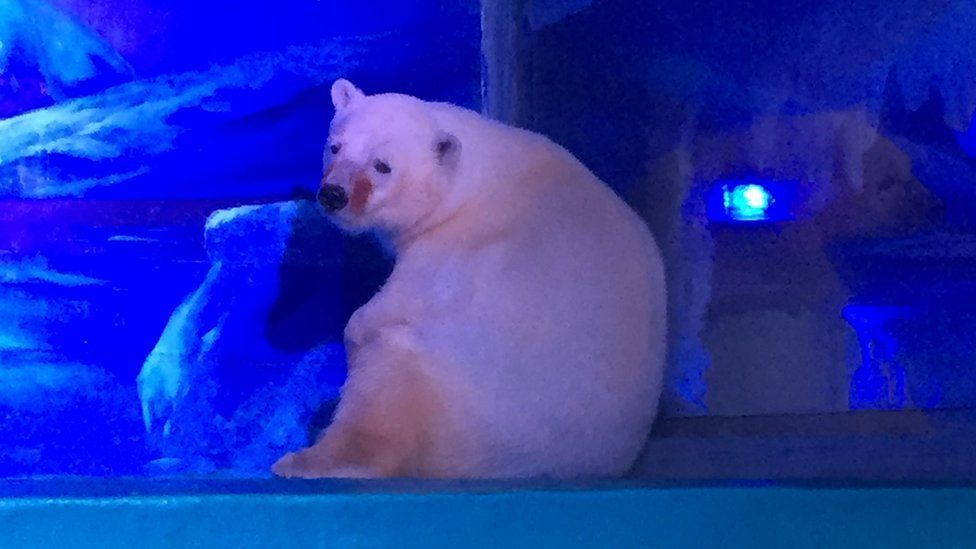Polar Bear: (242, 65, 711, 499)
